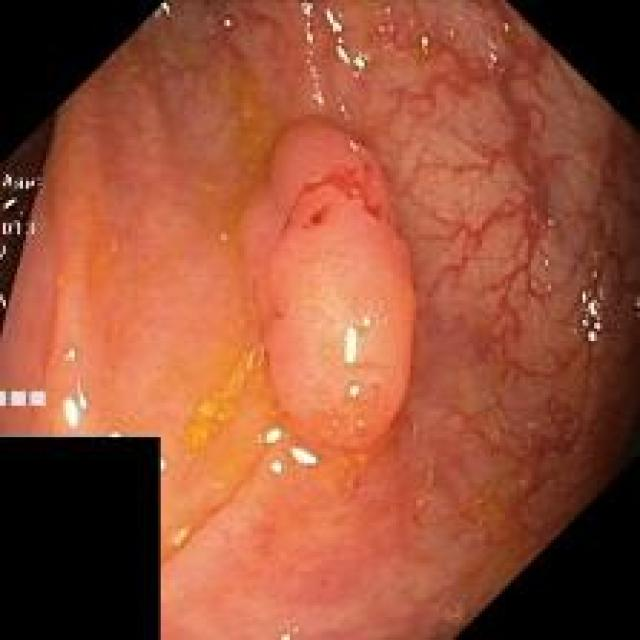Polyps: (240, 119, 416, 452)
